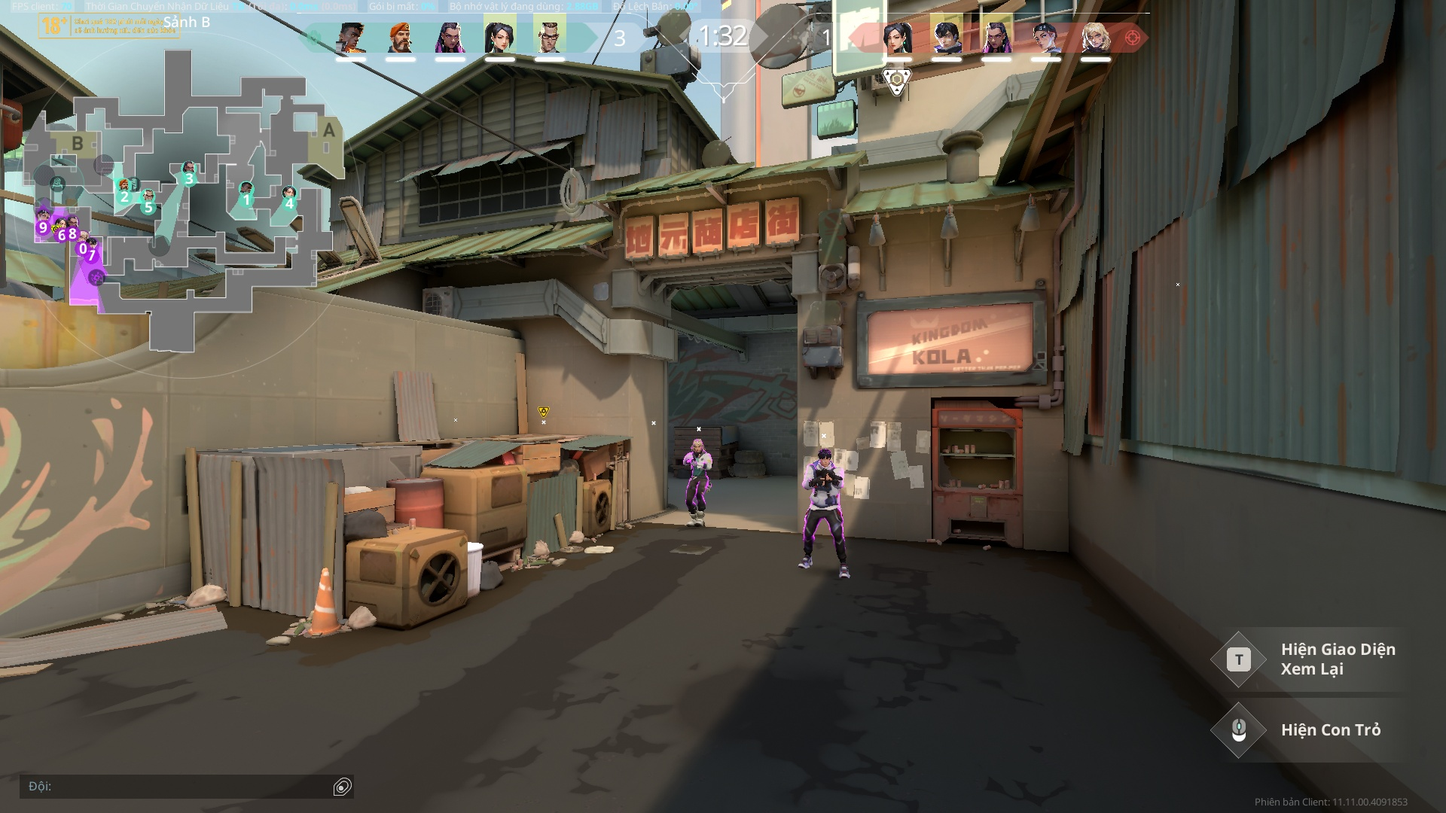body: (807, 462, 842, 509), (686, 449, 711, 477)
head: (817, 448, 831, 466), (691, 438, 704, 452)
